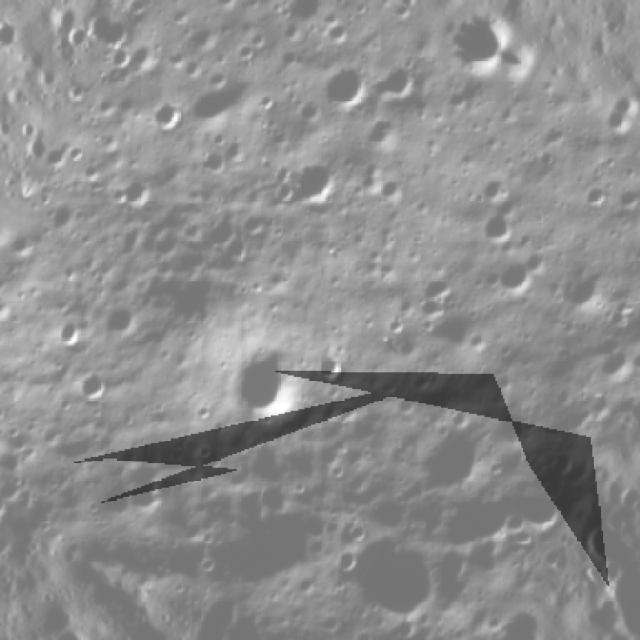crater: (325, 515, 466, 640), (216, 328, 336, 444), (399, 408, 501, 512), (178, 57, 268, 152), (272, 144, 354, 224), (400, 258, 474, 342), (367, 46, 442, 122), (474, 391, 549, 466), (544, 258, 616, 329), (314, 57, 380, 121), (483, 247, 548, 307), (435, 29, 502, 86), (186, 136, 246, 196), (136, 91, 195, 149), (65, 358, 126, 414), (248, 472, 306, 530), (94, 294, 148, 352), (112, 167, 168, 222), (470, 203, 525, 257), (360, 110, 414, 162), (267, 0, 339, 37), (41, 192, 88, 242), (313, 342, 356, 390), (600, 107, 640, 142), (5, 224, 41, 262)
